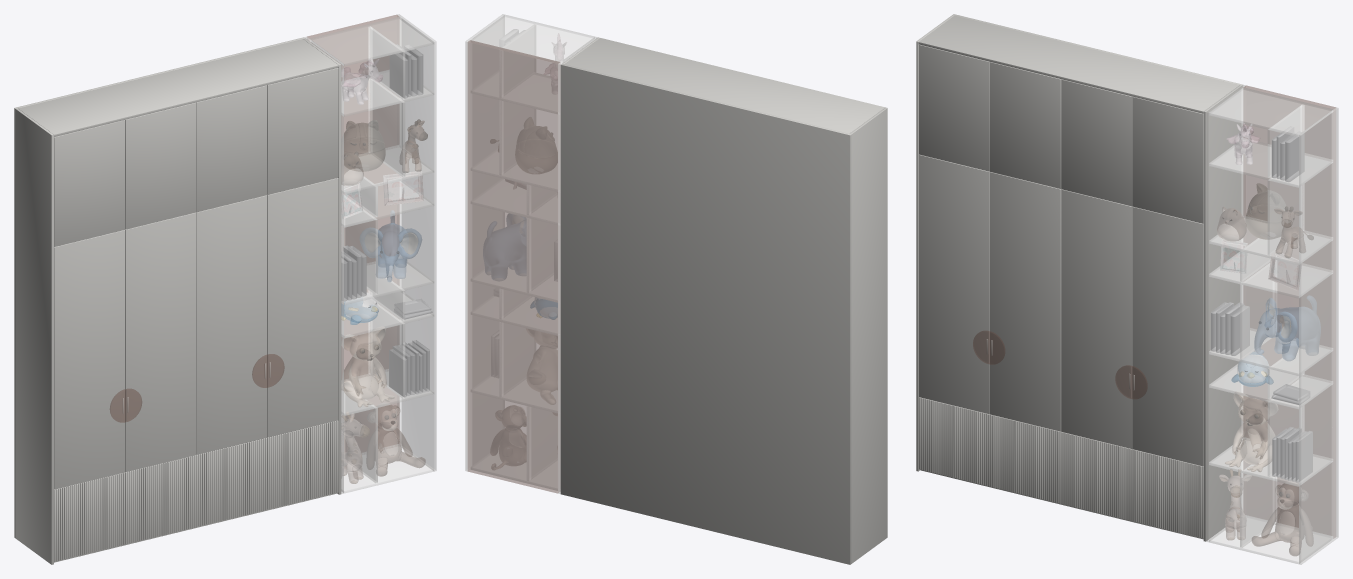
File: kids-room-8.glb
3 views of the same model, side by side, from view 1: azimuth 30°, elevation 25°; view 2: azimuth 150°, elevation 25°; view 3: azimuth 330°, elevation 25° (orthographic).
Parts seen in each view (by area): view 1: kids-room-8 | White_lak_for_Furniture_Composition_2, kids-room-8 | white_lak_for_Furniture_composition, kids-room-8 | Gray_lak_for_Furniture_Composition, kids-room-8 | Lenivec_plush, kids-room-8 | Plush_blue_for_elephant, kids-room-8 | Monkey_plush_light, kids-room-8 | Plush_dark, kids-room-8 | Plush_light, kids-room-8 | Jiraffe_plush, kids-room-8 | Lenivec_plush_light, kids-room-8 | Unicorn_plush_white, kids-room-8 | Poster_for_Frame_for_poster_03 (+7 smaller); view 2: kids-room-8 | White_lak_for_Furniture_Composition_2, kids-room-8 | Gray_lak_for_Furniture_Composition, kids-room-8 | white_lak_for_Furniture_composition, kids-room-8 | Plush_blue_for_elephant, kids-room-8 | Lenivec_plush, kids-room-8 | Monkey_plush_light, kids-room-8 | light_for_Tv_Wall, kids-room-8 | Plush_dark; view 3: kids-room-8 | White_lak_for_Furniture_Composition_2, kids-room-8 | white_lak_for_Furniture_composition, kids-room-8 | Gray_lak_for_Furniture_Composition, kids-room-8 | Plush_blue_for_elephant, kids-room-8 | Lenivec_plush, kids-room-8 | Monkey_plush_light, kids-room-8 | light_for_Tv_Wall, kids-room-8 | book_012, kids-room-8 | Jiraffe_plush, kids-room-8 | Plush_dark, kids-room-8 | Jiraffe_soft_plush_beige, kids-room-8 | Lenivec_plush_light (+9 smaller).
Part boxes in pixels (box(x1,y1,x2,y2)): kids-room-8 | White_lak_for_Furniture_Composition_2: box(14, 37, 341, 564); kids-room-8 | white_lak_for_Furniture_composition: box(304, 14, 436, 493); kids-room-8 | Gray_lak_for_Furniture_Composition: box(110, 15, 399, 452); kids-room-8 | Lenivec_plush: box(341, 327, 394, 406); kids-room-8 | Plush_blue_for_elephant: box(360, 210, 421, 281); kids-room-8 | Monkey_plush_light: box(366, 403, 425, 476); kids-room-8 | Plush_dark: box(341, 122, 385, 171); kids-room-8 | Plush_light: box(341, 120, 384, 153); kids-room-8 | Jiraffe_plush: box(341, 413, 364, 483); kids-room-8 | Lenivec_plush_light: box(343, 329, 394, 406); kids-room-8 | Unicorn_plush_white: box(342, 58, 380, 104); kids-room-8 | Poster_for_Frame_for_poster_03: box(384, 176, 422, 204); kids-room-8 | White_lak_for_Furniture_Composition_2: box(560, 37, 887, 564); kids-room-8 | Gray_lak_for_Furniture_Composition: box(468, 40, 560, 493); kids-room-8 | white_lak_for_Furniture_composition: box(465, 14, 597, 493); kids-room-8 | Plush_blue_for_elephant: box(483, 214, 526, 279); kids-room-8 | Lenivec_plush: box(526, 328, 557, 404); kids-room-8 | Monkey_plush_light: box(490, 405, 526, 469); kids-room-8 | light_for_Tv_Wall: box(558, 62, 561, 492); kids-room-8 | Plush_dark: box(515, 148, 557, 173); kids-room-8 | White_lak_for_Furniture_Composition_2: box(916, 14, 1243, 541); kids-room-8 | white_lak_for_Furniture_composition: box(1206, 85, 1338, 564); kids-room-8 | Gray_lak_for_Furniture_Composition: box(973, 85, 1335, 537); kids-room-8 | Plush_blue_for_elephant: box(1254, 295, 1320, 360); kids-room-8 | Lenivec_plush: box(1225, 391, 1278, 470); kids-room-8 | Monkey_plush_light: box(1252, 481, 1313, 555); kids-room-8 | light_for_Tv_Wall: box(1241, 108, 1335, 538); kids-room-8 | book_012: box(1230, 307, 1309, 401); kids-room-8 | Jiraffe_plush: box(1219, 474, 1251, 539); kids-room-8 | Plush_dark: box(1245, 185, 1282, 239); kids-room-8 | Jiraffe_soft_plush_beige: box(1274, 209, 1306, 257); kids-room-8 | Lenivec_plush_light: box(1225, 394, 1271, 471).
Size of the model in its own units: 2.81 by 3 by 0.5101.
56 materials, 3 textured.
